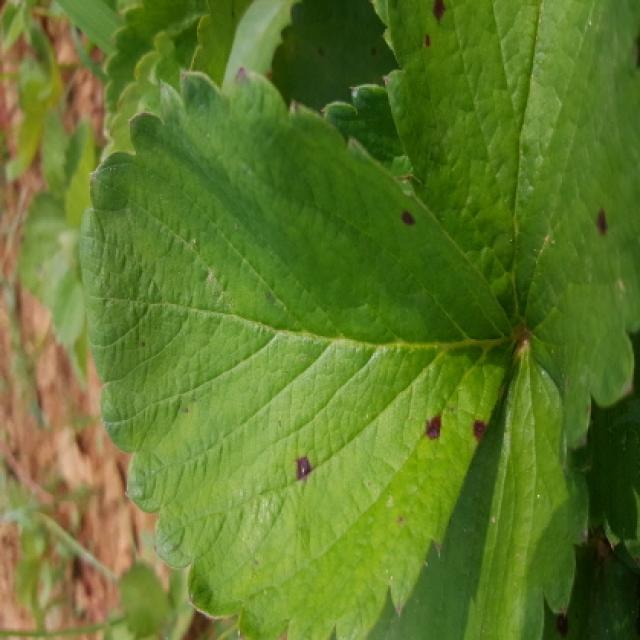Leaf Spot: (79, 64, 517, 638), (374, 0, 638, 452), (267, 0, 401, 118)
